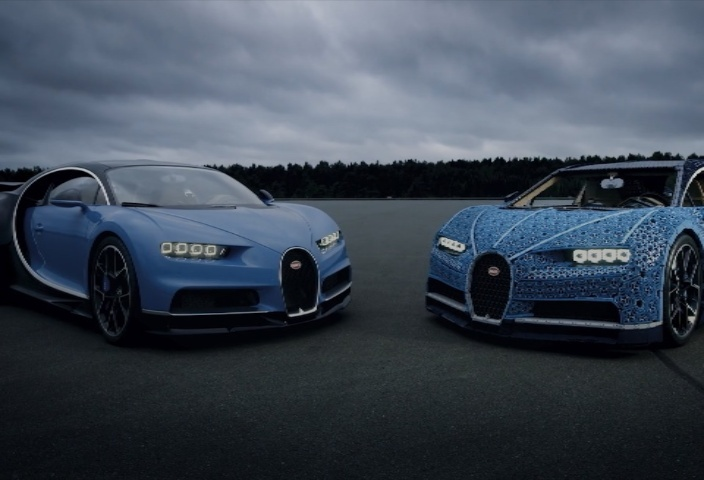car: (1, 142, 367, 341), (419, 146, 704, 348)
